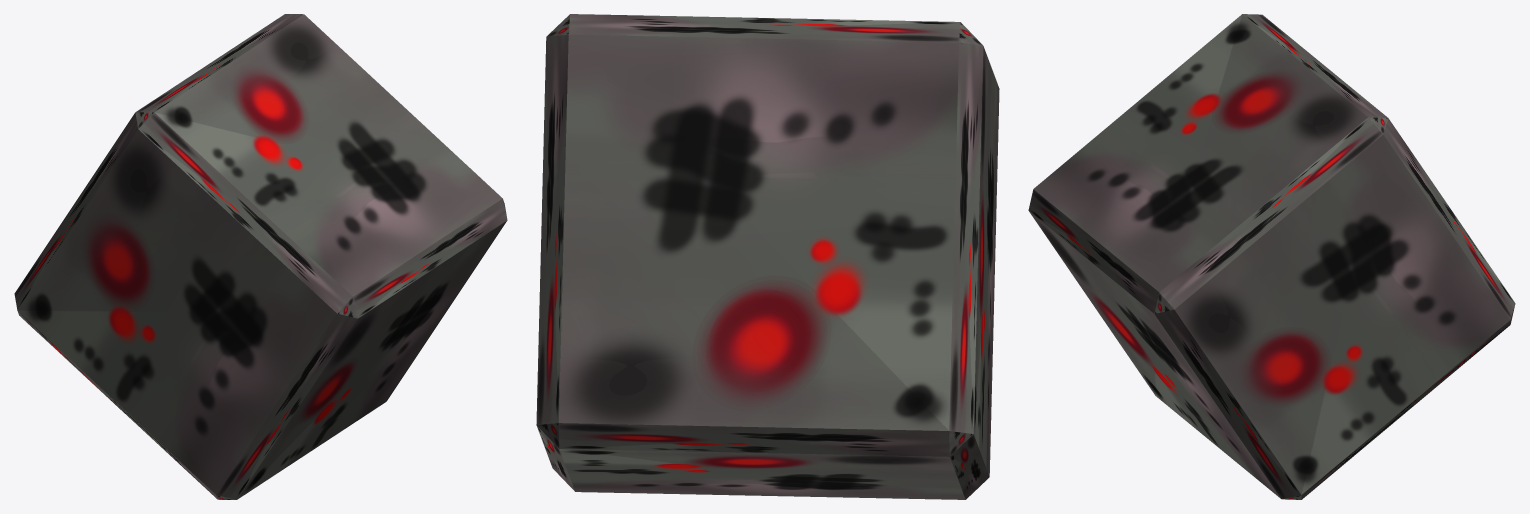
Rendered from quark.fbx.
3 renders of one model, left to right at view 1: azimuth 30°, elevation 25°; view 2: azimuth 150°, elevation 25°; view 3: azimuth 270°, elevation 25°, orthographic. The views are drawn at different scales.
Parts seen in each view (by area): view 1: Cube; view 2: Cube; view 3: Cube.
Part boxes in pixels (<box>): Cube: <box>14,14,507,499</box>; Cube: <box>536,14,999,499</box>; Cube: <box>1028,14,1515,499</box>.
Size of the model in its own units: 2.9 by 2.64 by 3.16.
